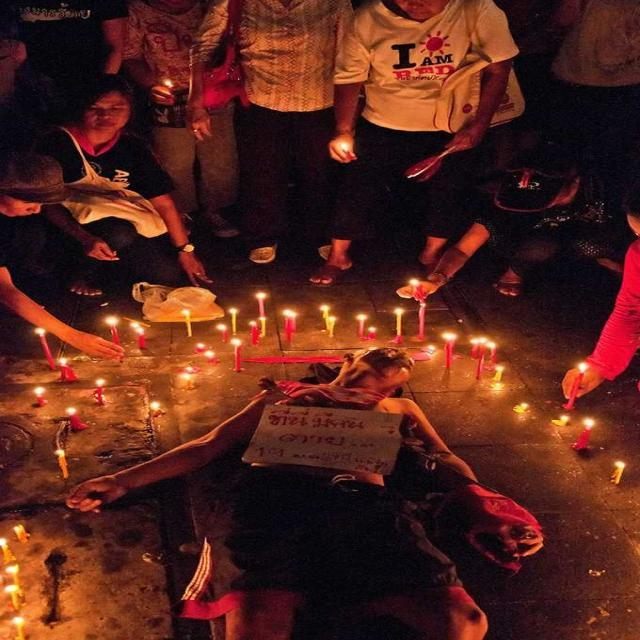Fire: (190, 294, 338, 338), (433, 322, 511, 367), (0, 528, 33, 624)
